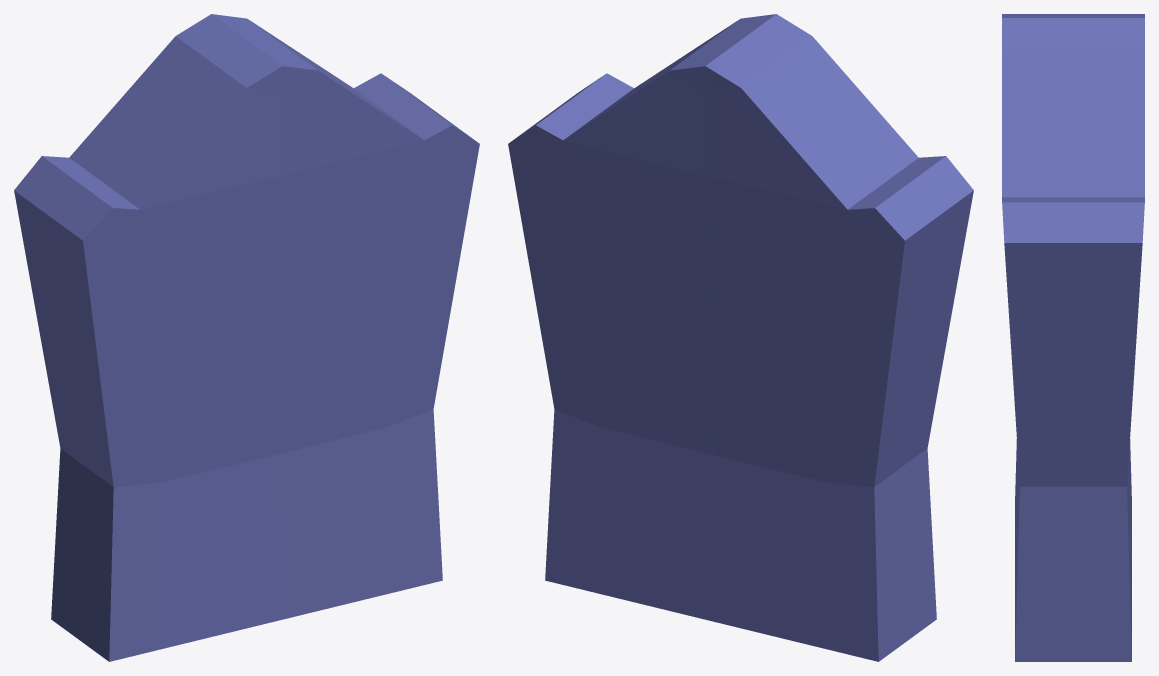
The model's file is lapide_03.fbx.
The picture shows the model from 3 angles, left to right: view 1: azimuth 30°, elevation 25°; view 2: azimuth 150°, elevation 25°; view 3: azimuth 270°, elevation 25°; orthographic projection.
Visible parts, largest first — view 1: lapide_quebrada_3; view 2: lapide_quebrada_3; view 3: lapide_quebrada_3.
Boxes of the visible parts, bbox=[...] form: lapide_quebrada_3: bbox=[14, 14, 479, 661]; lapide_quebrada_3: bbox=[508, 14, 973, 661]; lapide_quebrada_3: bbox=[1002, 14, 1144, 661].
Size of the model in its own units: 189 by 255 by 58.73.
